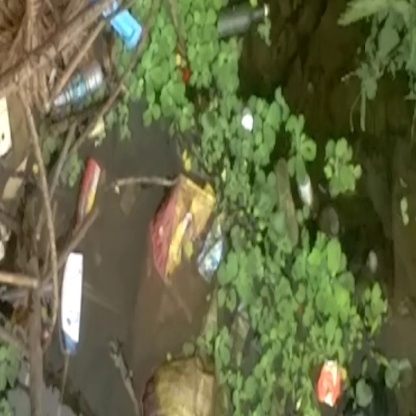bottle: (57, 251, 88, 354), (209, 4, 279, 42)
plastic-bag: (149, 169, 212, 285)
